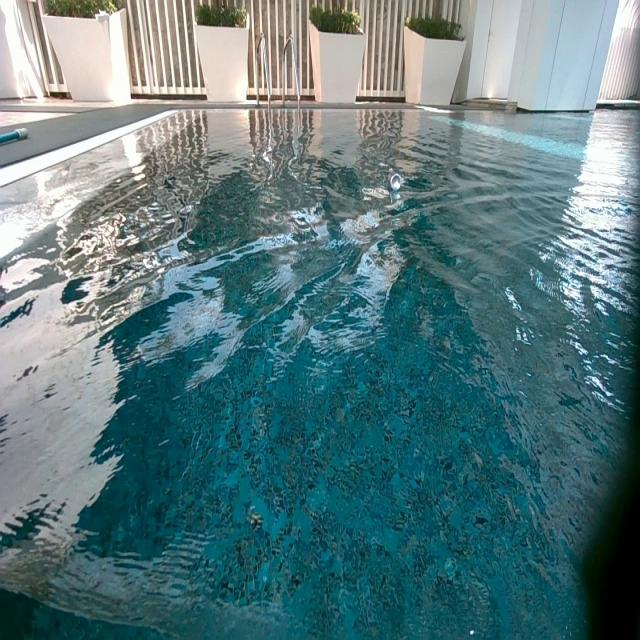Cans: (390, 173, 402, 188)
